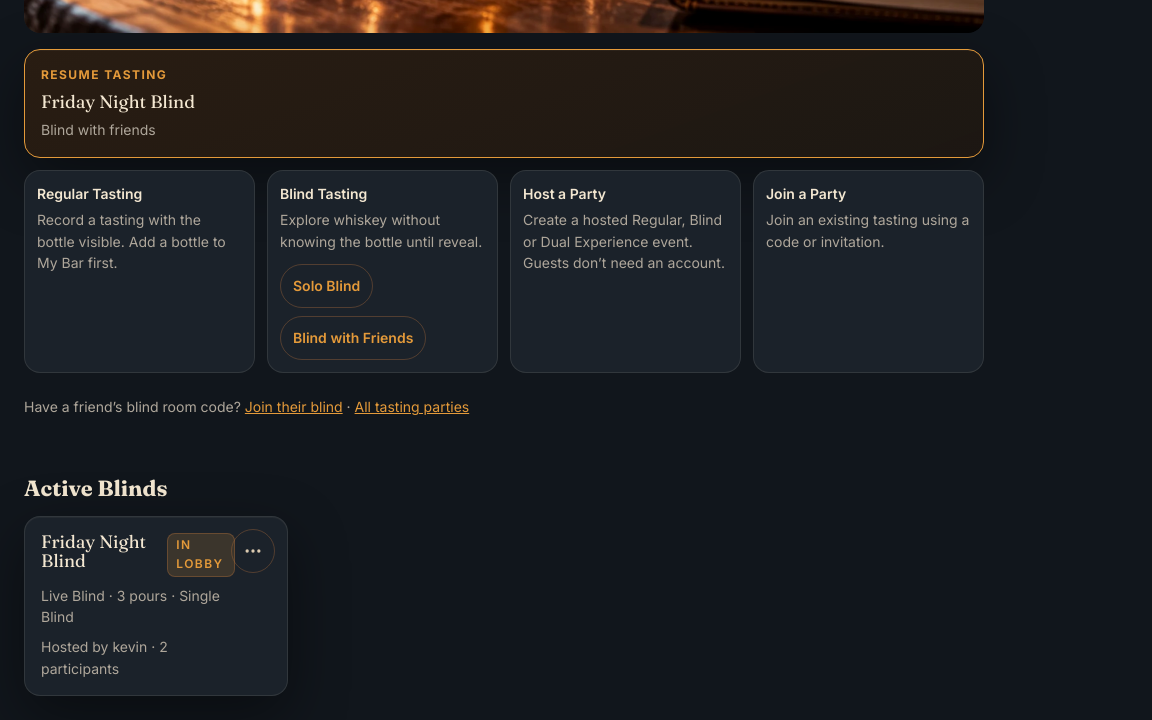
BlindRoomLandingPage › keeps the blind visible and shows a retry message if the delete fails
(page scrolled)
Click the button named "Friday Night Blind actions" at (253, 551), box [231,529,275,573]
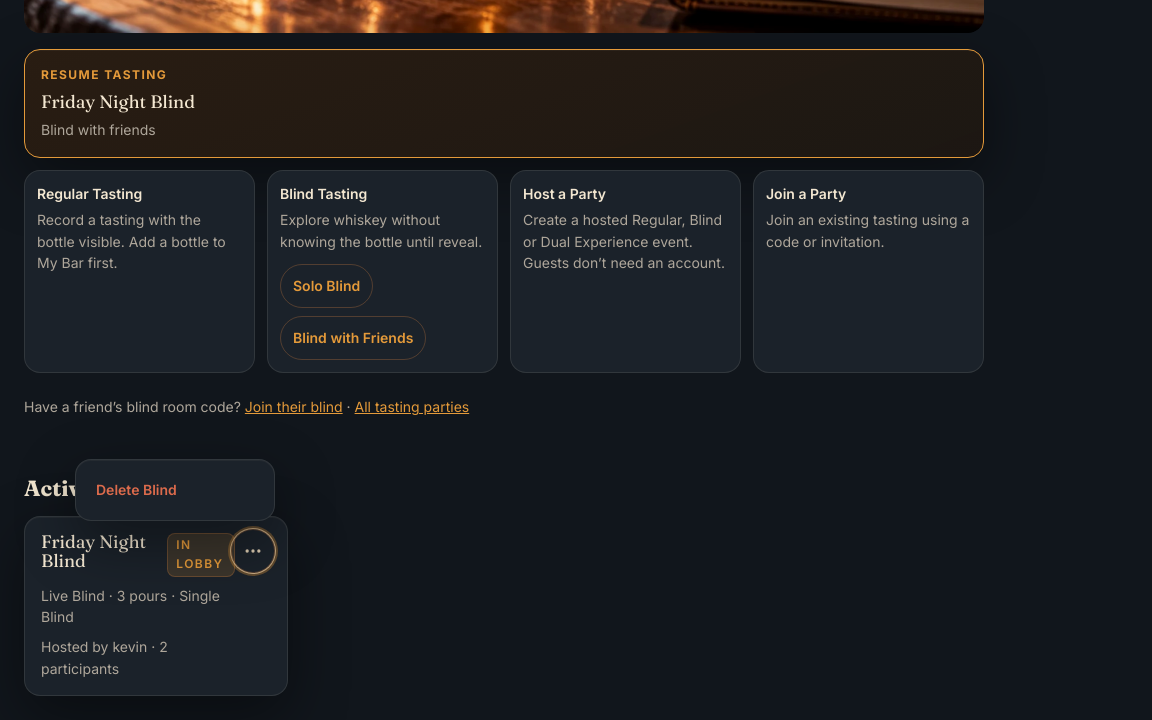
Click the menu item "Delete Blind" at (175, 490), box [84,468,266,512]
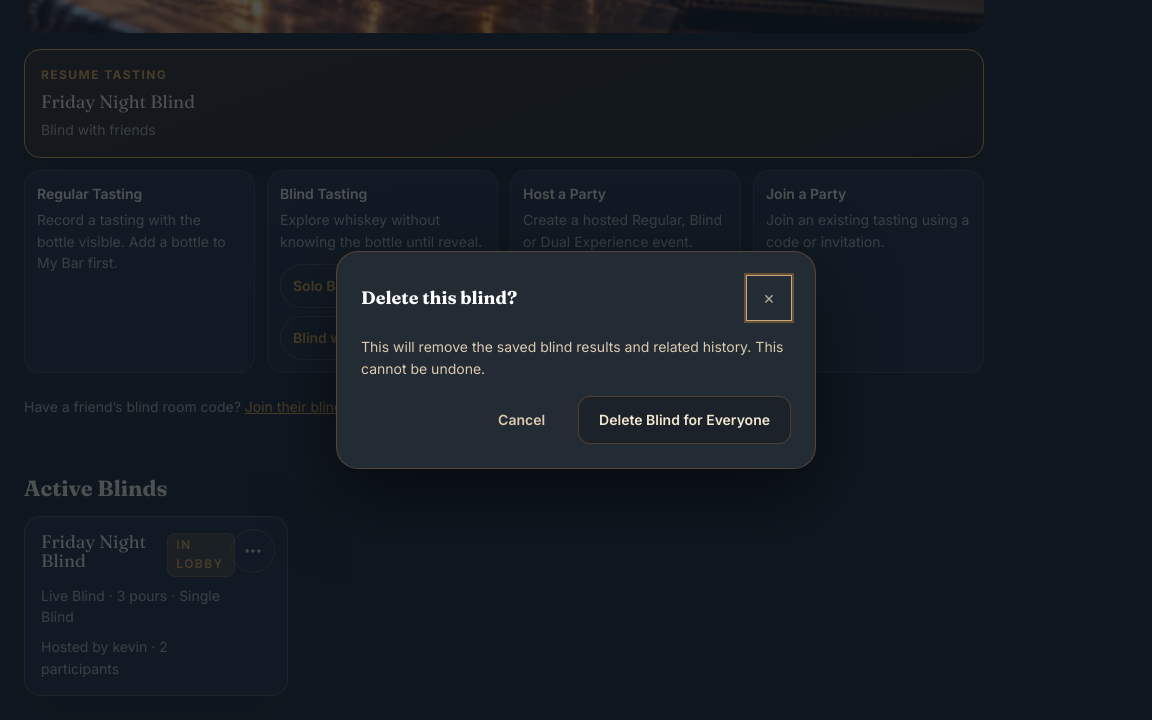
Result: the heading "Delete this blind?" is shown at [361,289,517,308]
Result: the text "This will remove the saved blind results and related history. This cannot be undone." is shown at [361,338,783,377]
Click the button "Delete Blind for Everyone" at (685, 420), box [578,396,791,444]
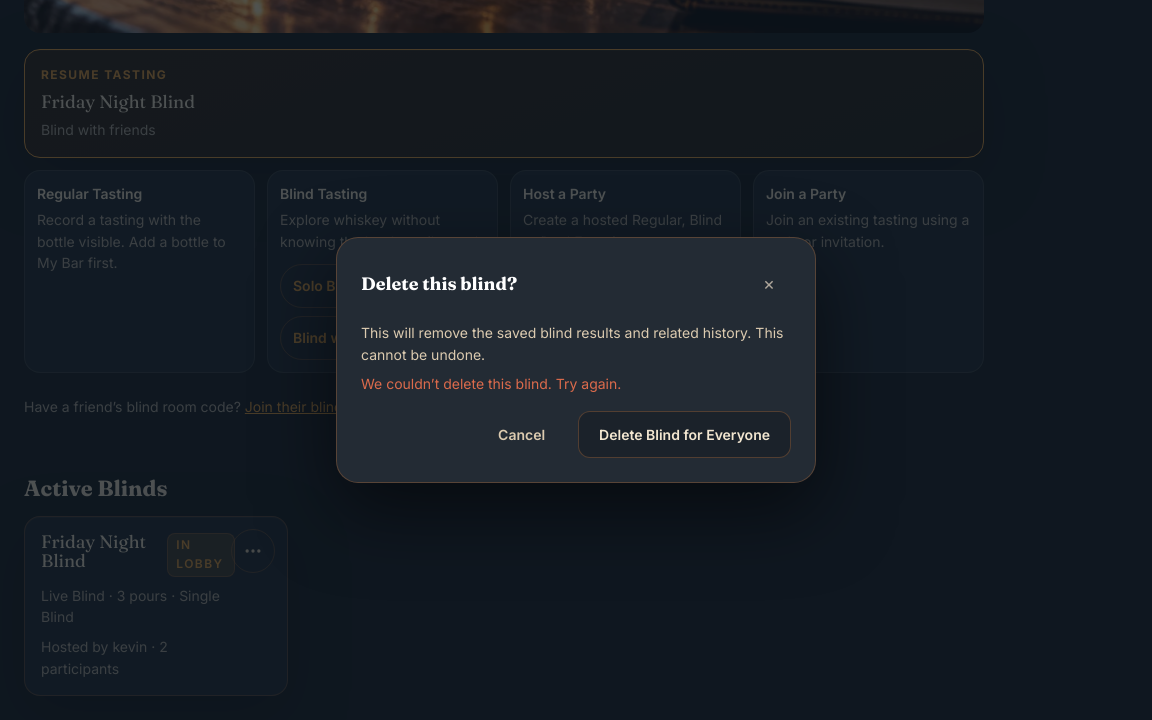
Expected: the text "Friday Night Blind" is shown, [41,533,155,571]
Result: the button "Delete Blind for Everyone" is enabled at [578,411,791,458]
Result: the text "We couldn’t delete this blind. Try again." is shown at [361,375,621,392]
